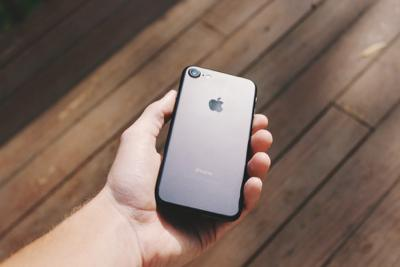Mobile Phone: (154, 63, 257, 224)
